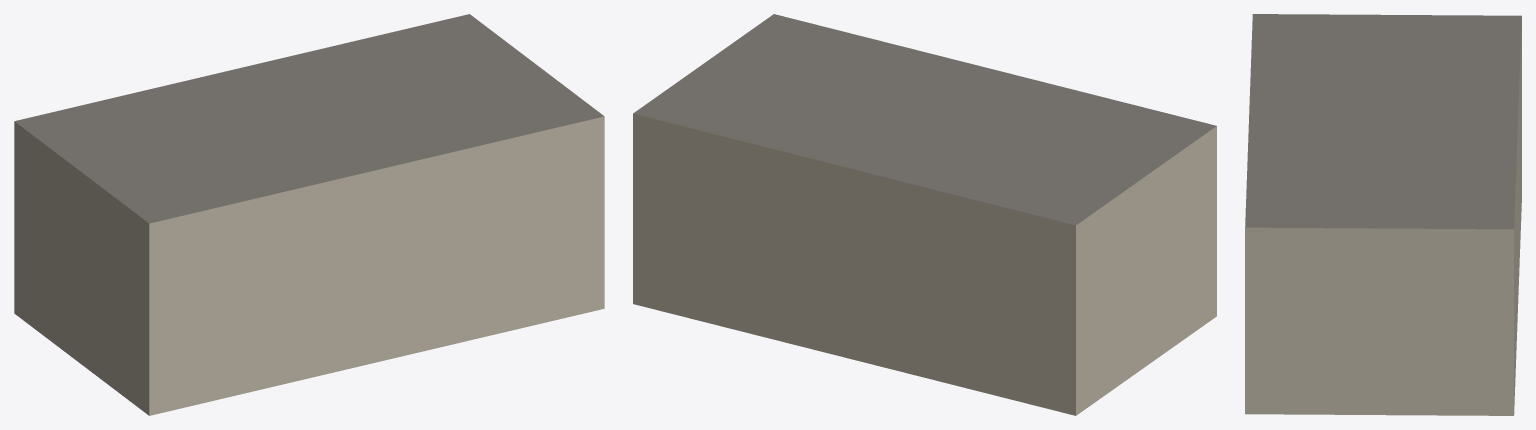
The picture shows the model from 3 angles, left to right: view 1: azimuth 30°, elevation 25°; view 2: azimuth 150°, elevation 25°; view 3: azimuth 270°, elevation 25°; orthographic projection. The views are drawn at different scales.
Parts seen in each view (by area): view 1: HP-w442103686; view 2: HP-w442103686; view 3: HP-w442103686.
Part boxes in pixels (x1,y1,x2,y2): HP-w442103686: (14, 14, 604, 415); HP-w442103686: (633, 14, 1216, 415); HP-w442103686: (1245, 14, 1521, 415).
Bounding box in the file's own units: 44.56 × 18 × 24.19.
